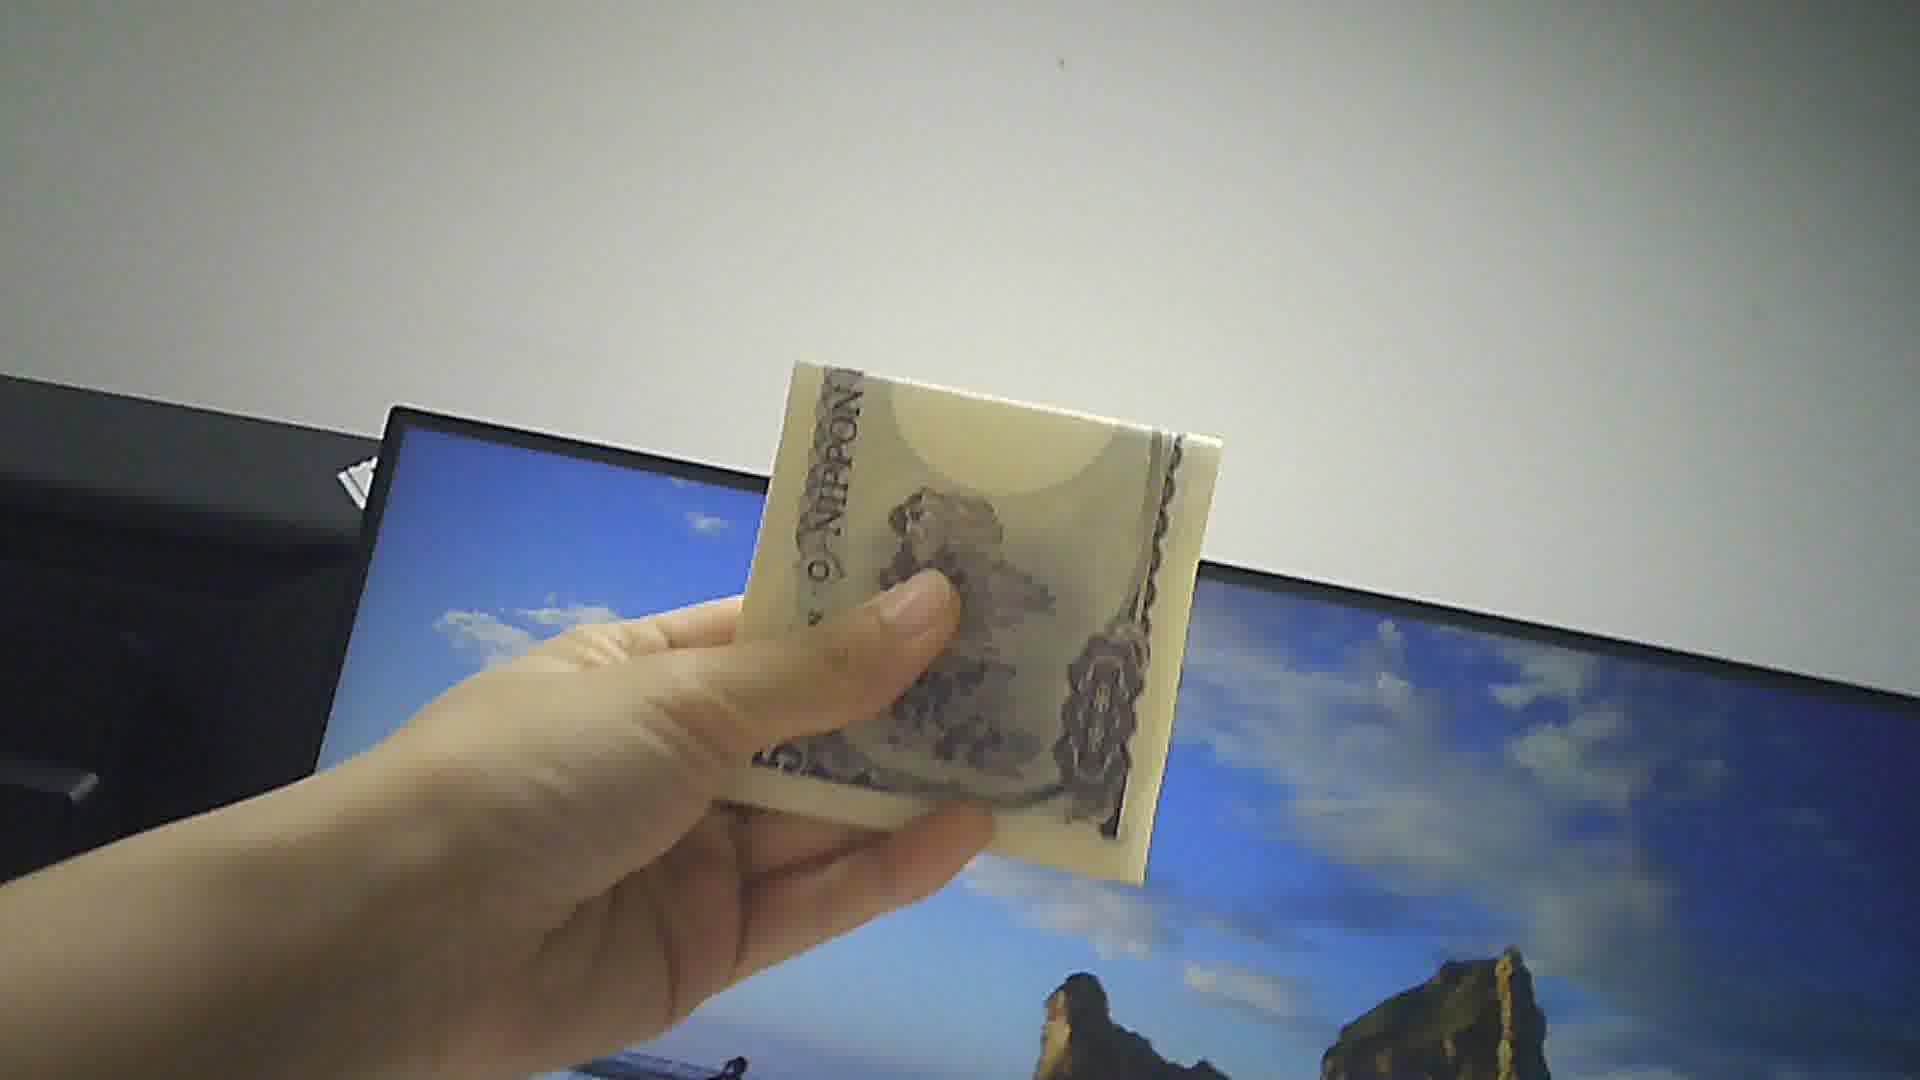5,000 Yen: (713, 345, 1240, 886)
